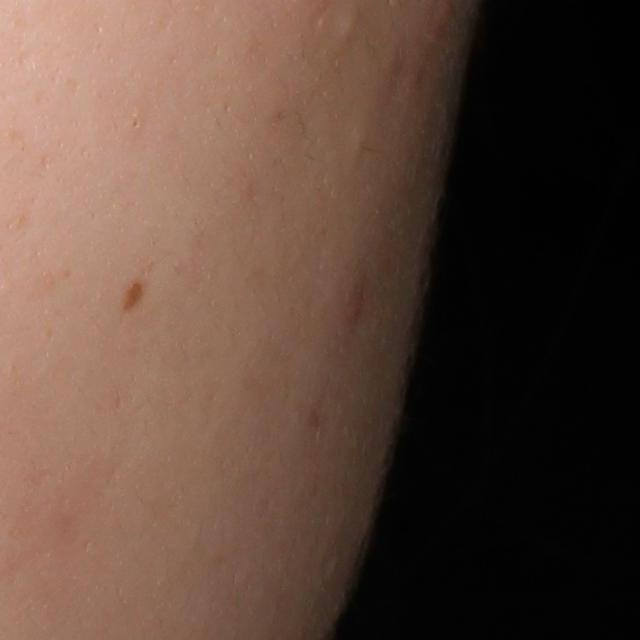comedo: (331, 1, 367, 51), (126, 112, 143, 135)
nevus: (121, 276, 149, 313)
